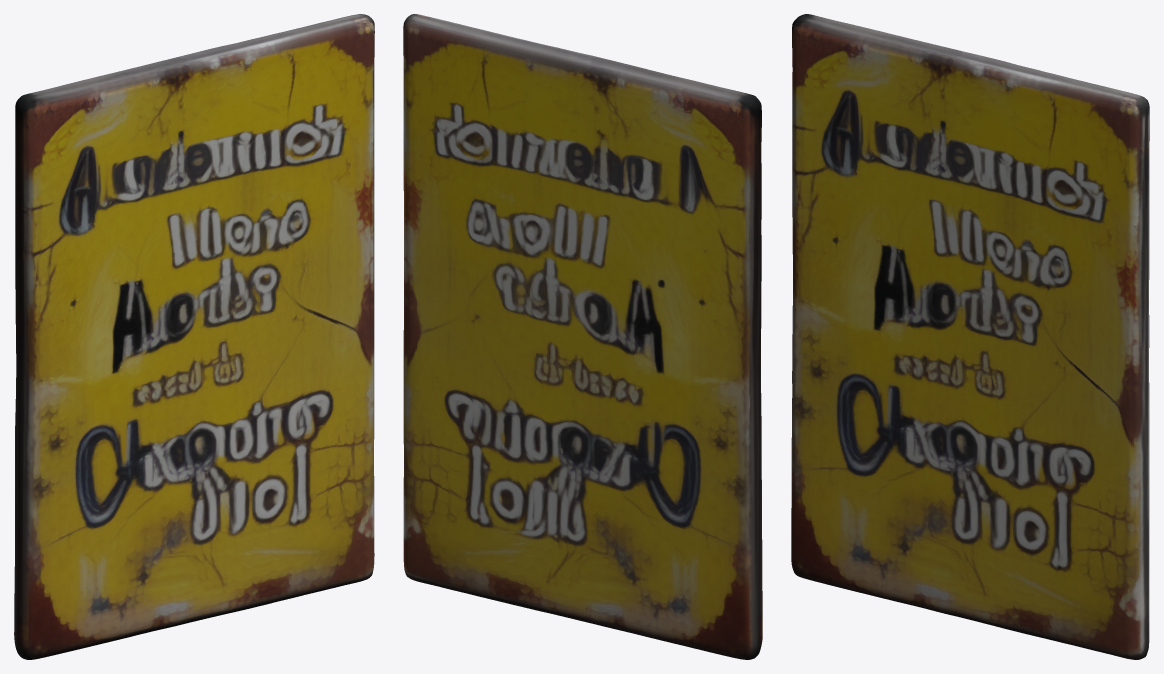
The model's file is LemonadeStandSign_A.fbx.
3 renders of one model, left to right at view 1: azimuth 30°, elevation 25°; view 2: azimuth 150°, elevation 25°; view 3: azimuth 330°, elevation 25°, orthographic.
Parts seen in each view (by area): view 1: geometry_0; view 2: geometry_0; view 3: geometry_0.
Part boxes in pixels (box(x1,y1,x2,y2)): geometry_0: box(14, 14, 374, 659); geometry_0: box(403, 14, 762, 659); geometry_0: box(791, 14, 1149, 659).
Bounding box in the file's own units: 0.7923 × 1.2 × 0.0599.
1 material, 1 textured.
